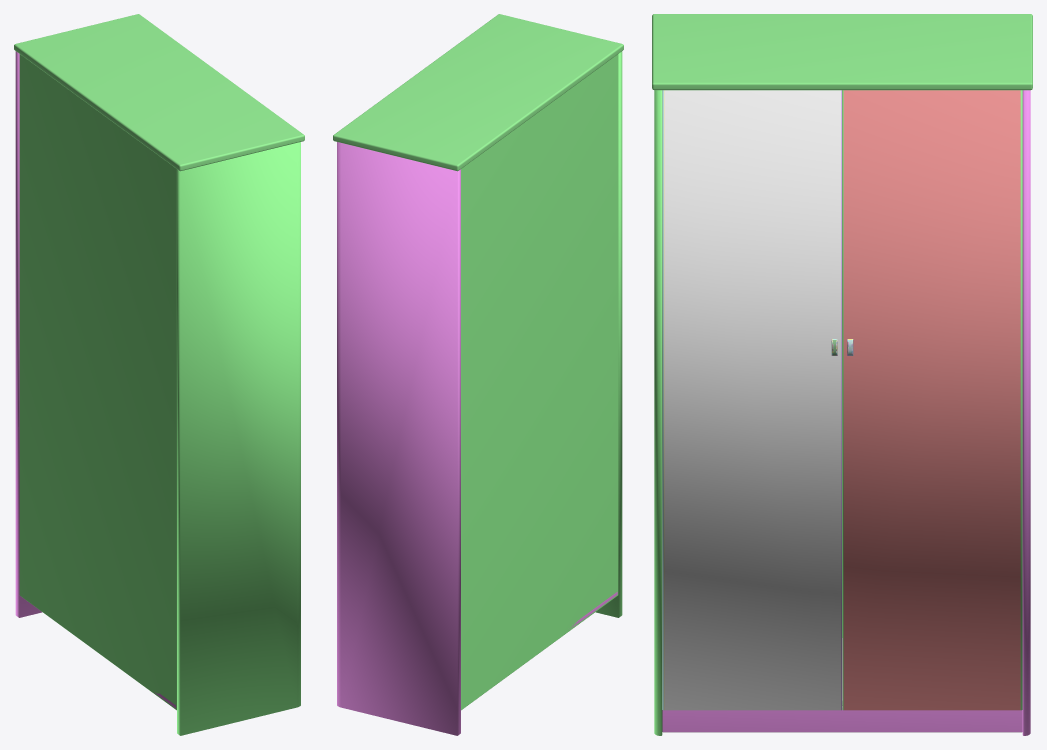
File: wardrobe.gltf
3 renders of one model, left to right at view 1: azimuth 30°, elevation 25°; view 2: azimuth 150°, elevation 25°; view 3: azimuth 270°, elevation 25°, orthographic. The views are drawn at different scales.
Parts seen in each view (by area): view 1: wardrobe; view 2: wardrobe; view 3: wardrobe.
Part boxes in pixels (x1,y1,x2,y2): wardrobe: (14, 14, 304, 735); wardrobe: (333, 14, 623, 735); wardrobe: (652, 14, 1032, 735).
Size of the model in its own units: 0.7284 by 3.03 by 1.6.
